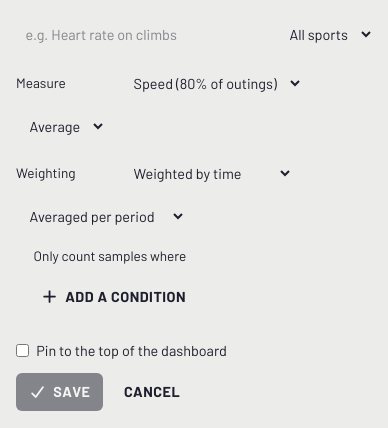
Scenario: AggregateEditForm › refuses to save without a name
Expected: the button with test id "aggregate-save" is disabled, x1=16 y1=373 x2=103 y2=411
Type "Climb pace" into the field with test id "aggregate-label" at (142, 35), box x1=16 y1=16 x2=268 y2=54
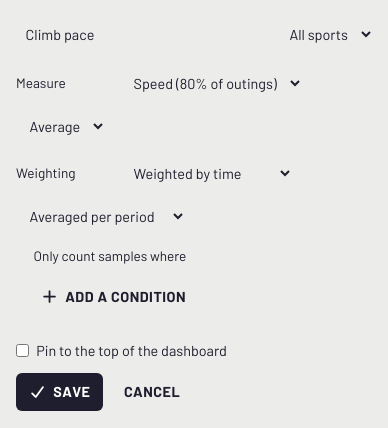
Result: the button with test id "aggregate-save" is enabled at x1=16 y1=373 x2=103 y2=411
